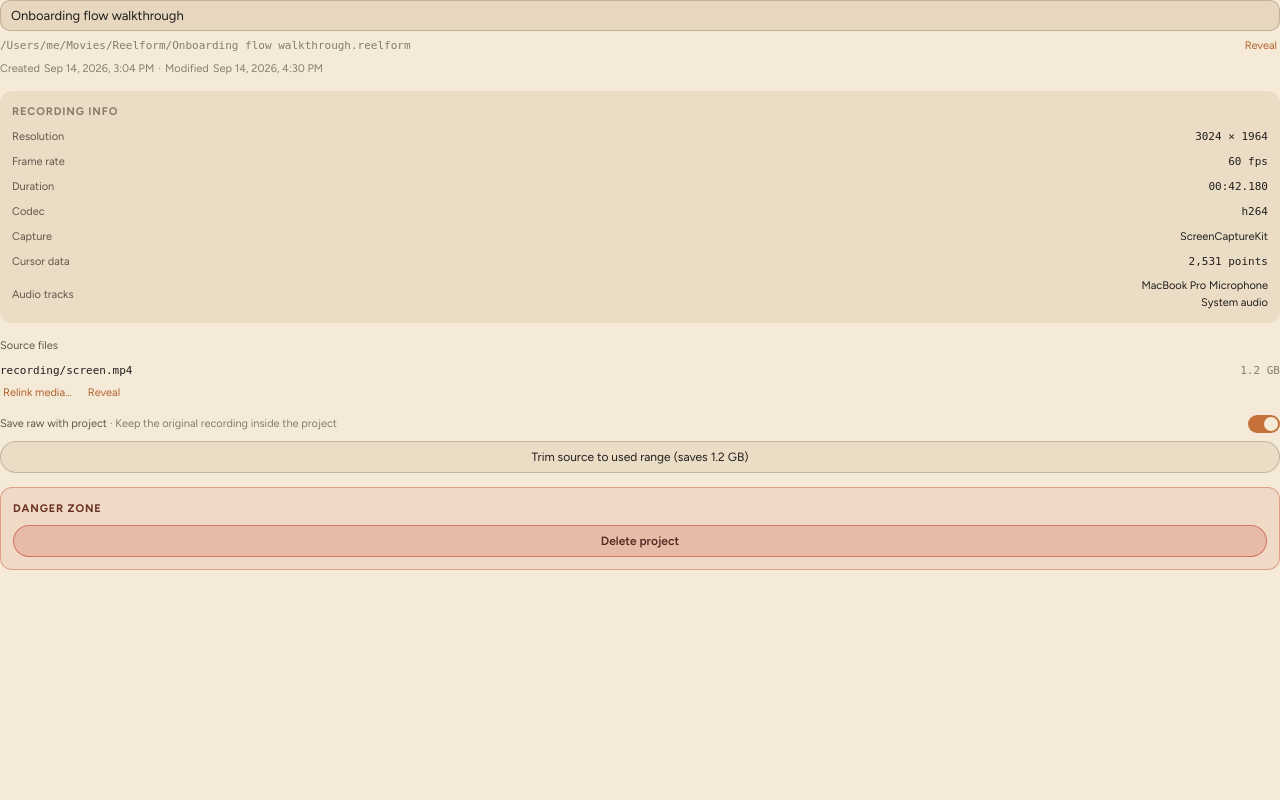
ProjectInspector › delete: cancel closes without deleting
Click the button "Delete project" at [640, 541], box [13,525,1267,557]
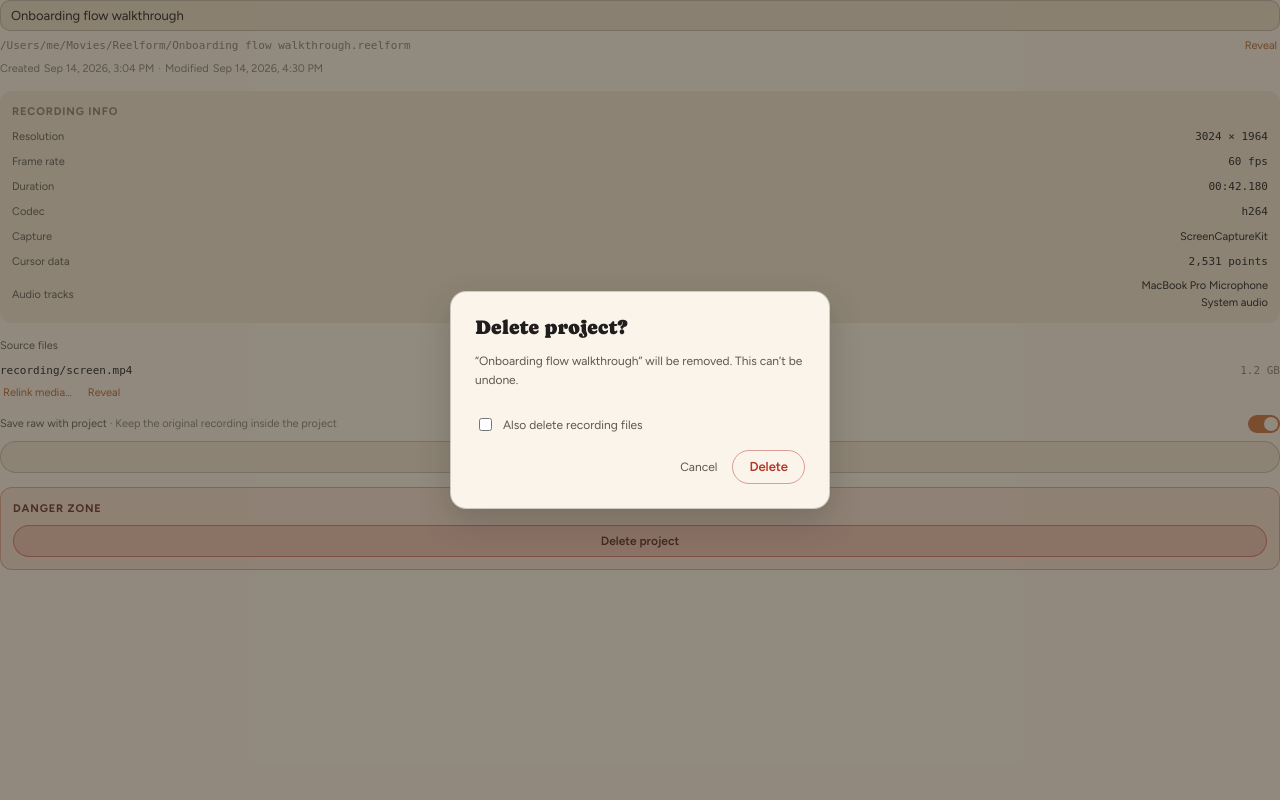
Result: the text "Delete project?" is shown at [475,316,627,339]
Click the button "Cancel" at [699, 467], box [675,451,722,483]
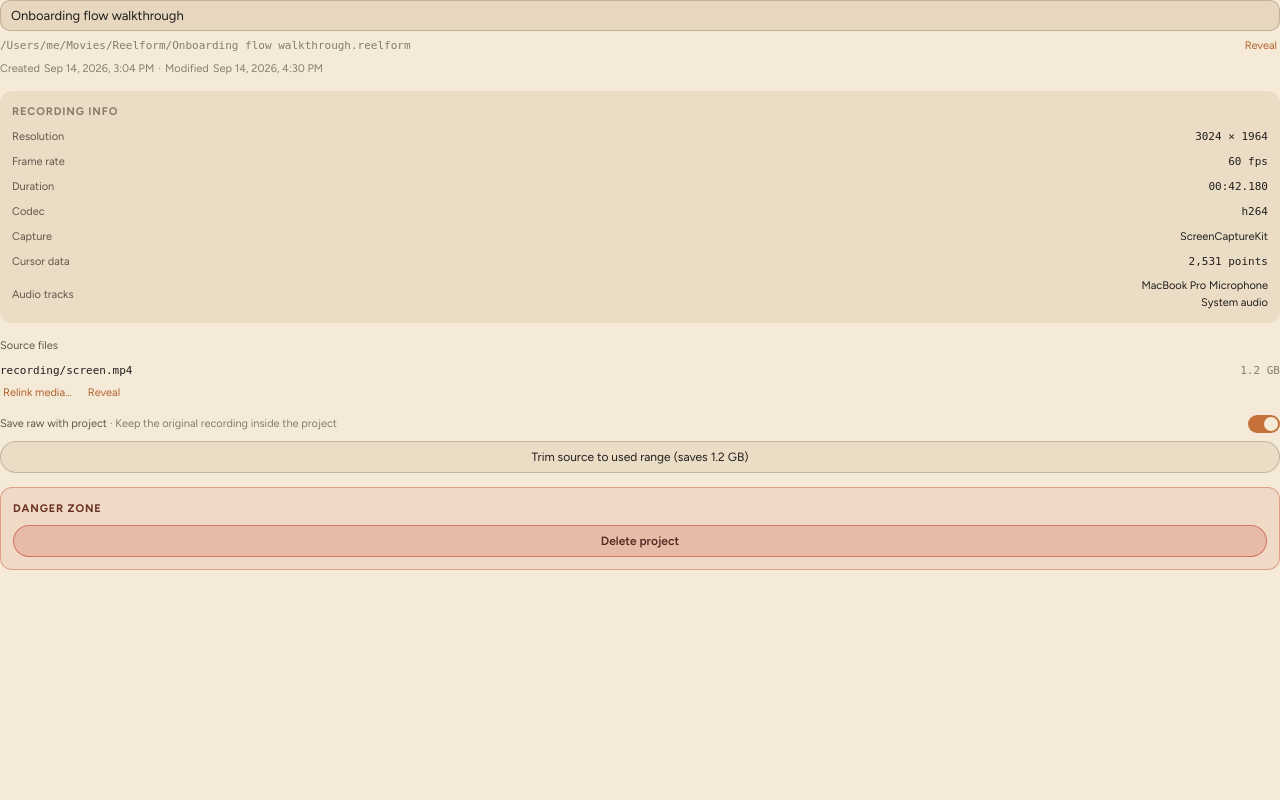
Result: the dialog is gone
